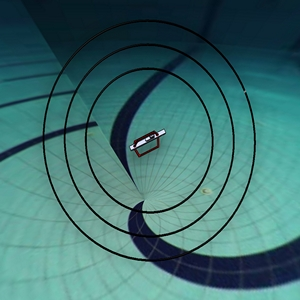circle: (35, 10, 273, 267)
submarine: (126, 121, 168, 161)
